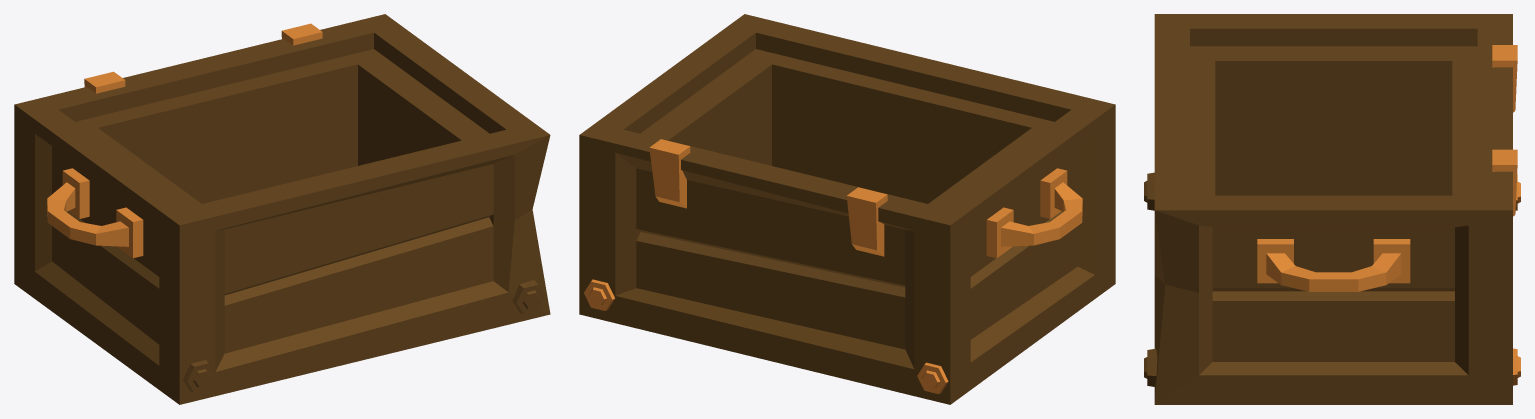
Rendered from Dev_Prop_Chest_01.fbx.
The picture shows the model from 3 angles, left to right: view 1: azimuth 30°, elevation 25°; view 2: azimuth 150°, elevation 25°; view 3: azimuth 270°, elevation 25°; orthographic projection. The views are drawn at different scales.
Visible parts, largest first — view 1: Prop_Chest_01; view 2: Prop_Chest_01; view 3: Prop_Chest_01.
Boxes of the visible parts, x1,y1,x2,y2 form: Prop_Chest_01: [14, 14, 550, 404]; Prop_Chest_01: [579, 14, 1115, 404]; Prop_Chest_01: [1144, 14, 1520, 404].
Bounding box in the file's own units: 85.12 × 33.84 × 57.28.
